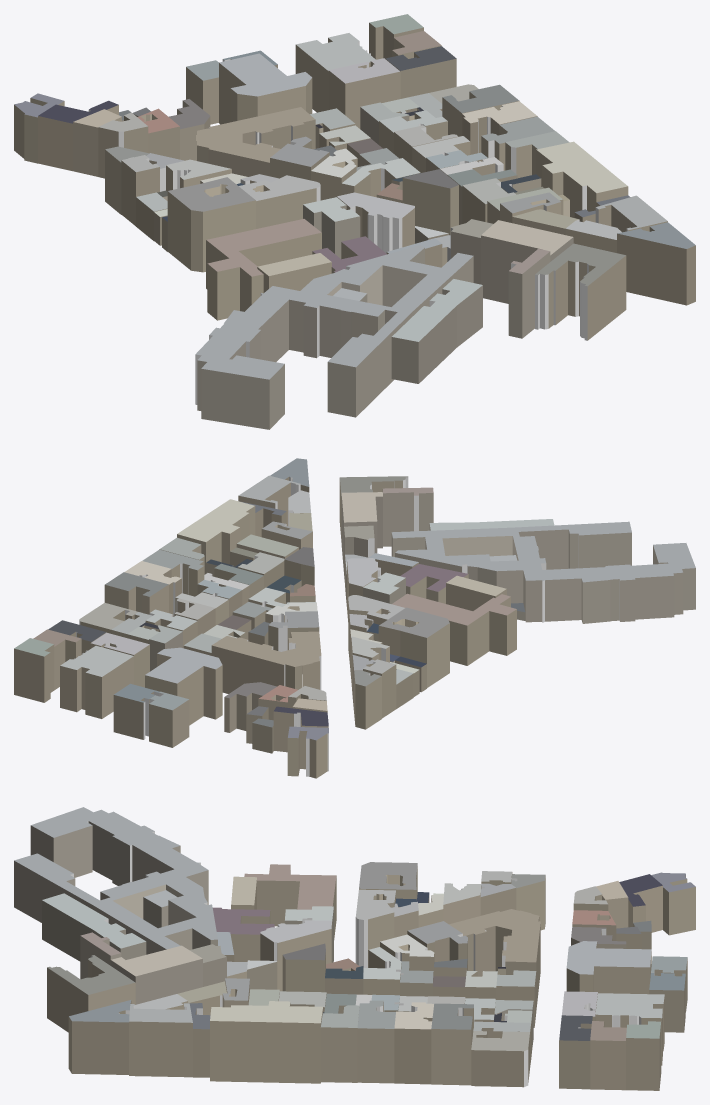
3 views of the same model, one above another, from view 1: azimuth 30°, elevation 25°; view 2: azimuth 150°, elevation 25°; view 3: azimuth 270°, elevation 25° (orthographic). The views are drawn at different scales.
Visible parts, largest first — view 1: tuile; view 2: tuile; view 3: tuile.
Part boxes in pixels (x1,y1,x2,y2): tuile: (14, 14, 695, 429); tuile: (14, 458, 695, 778); tuile: (14, 807, 695, 1090).
Bounding box in the file's own units: 233 × 31.92 × 286.
